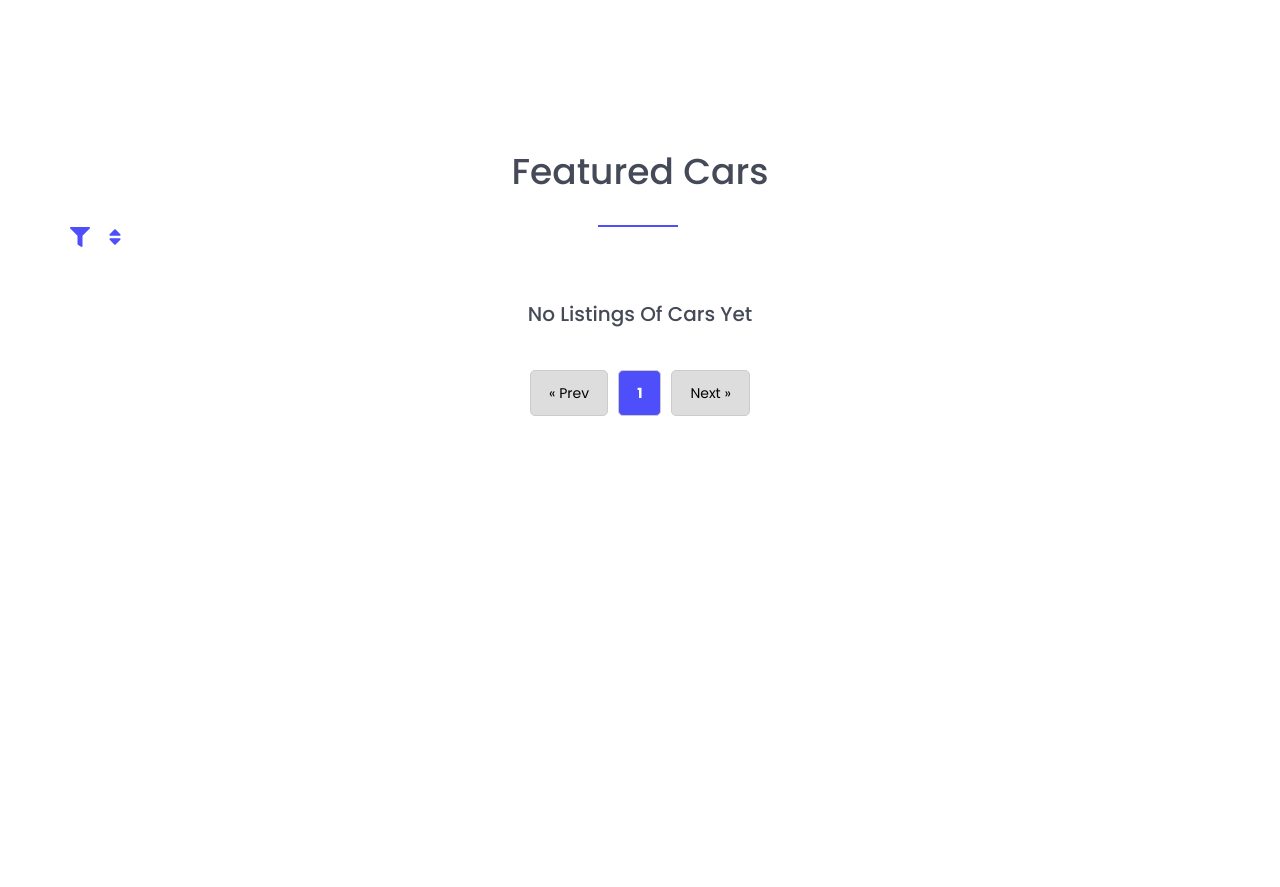
Test: Catalog Component › filters cars based on brand
The image size is (1280, 887).
Step 1. Click the icon with test id "filter" → (80, 237), box [70,227,90,247]
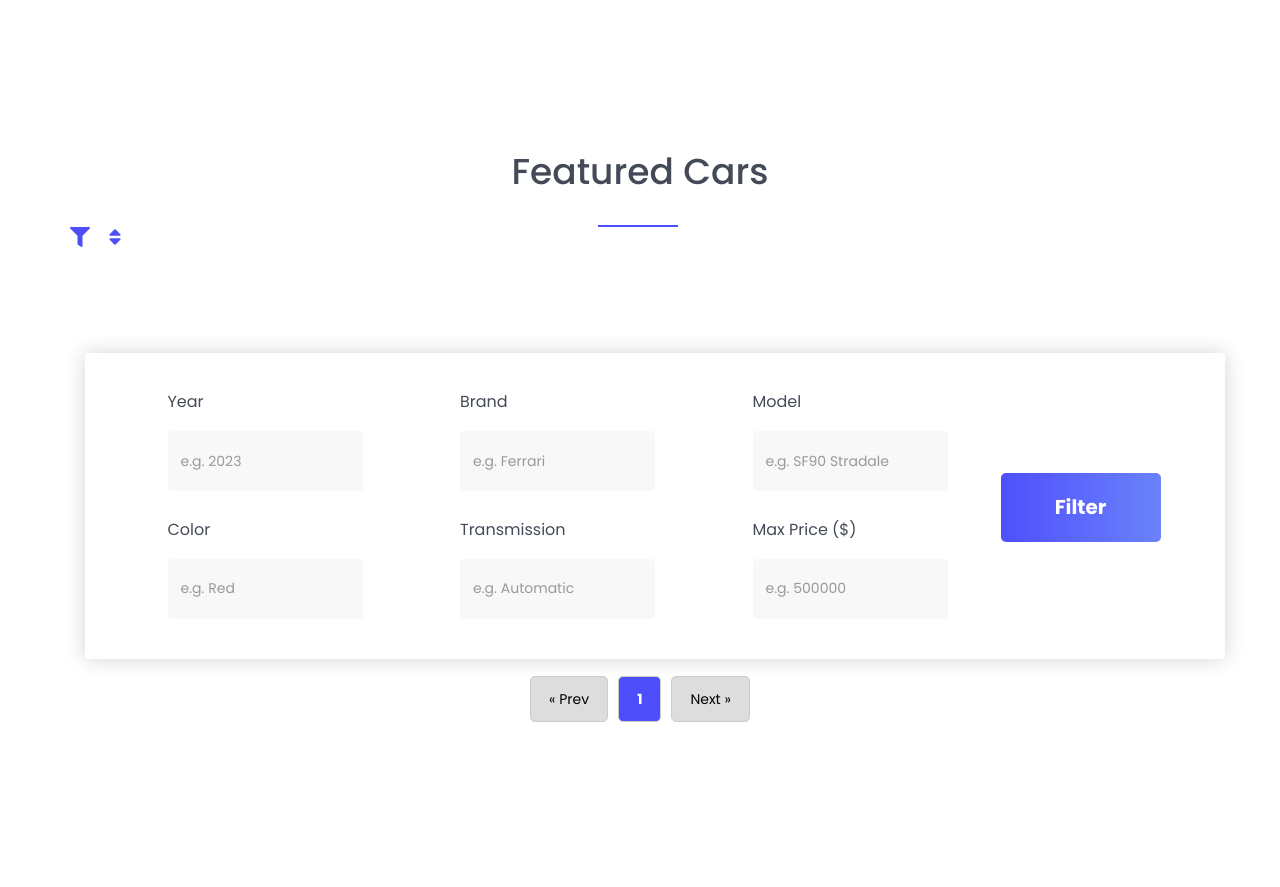
# Simulate setting brand to "Toyota"
Step 2. Type "Toyota" into the field with placeholder "e.g. Ferrari" → (558, 461), box [460,431,655,491]
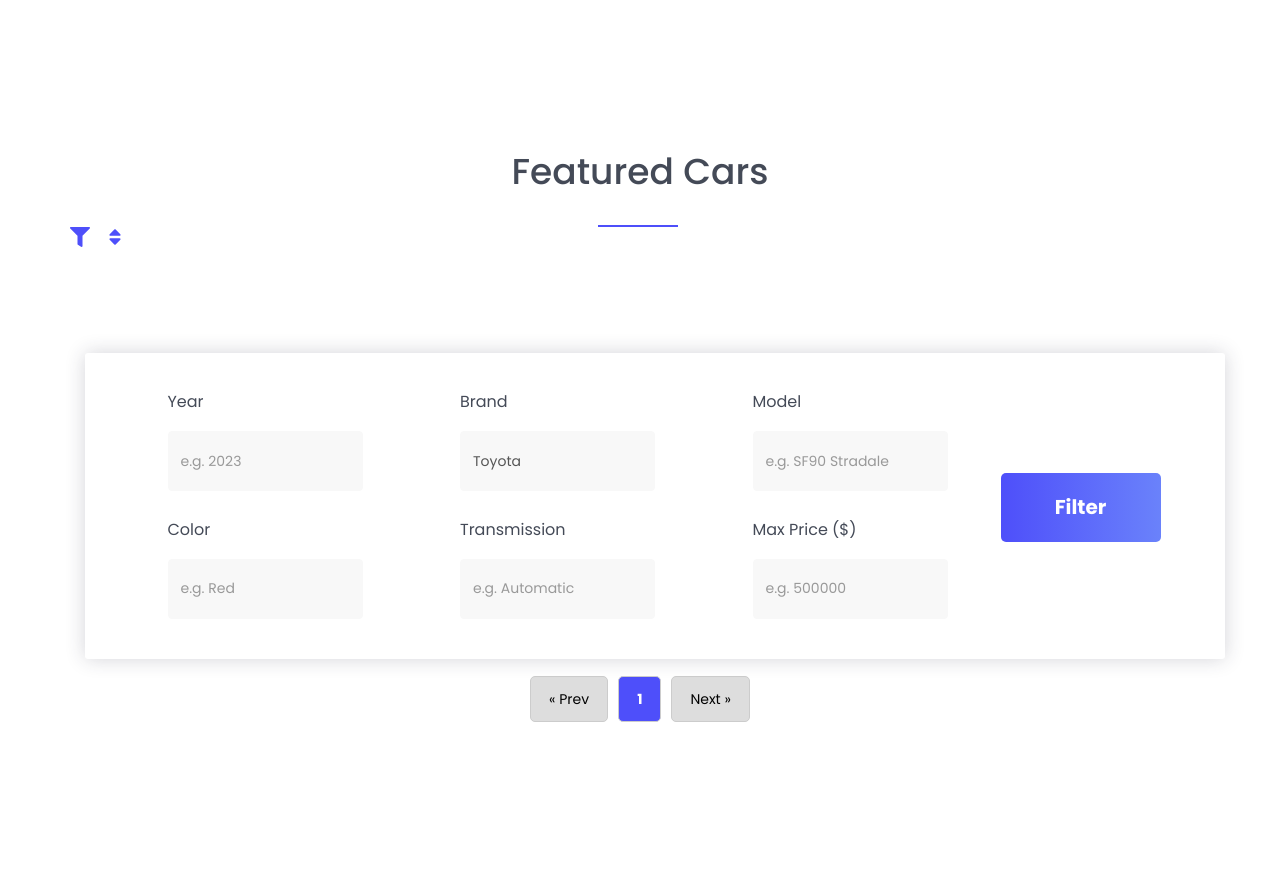
Step 3. Click the button "Filter" → (1080, 508), box [1000,473,1160,542]
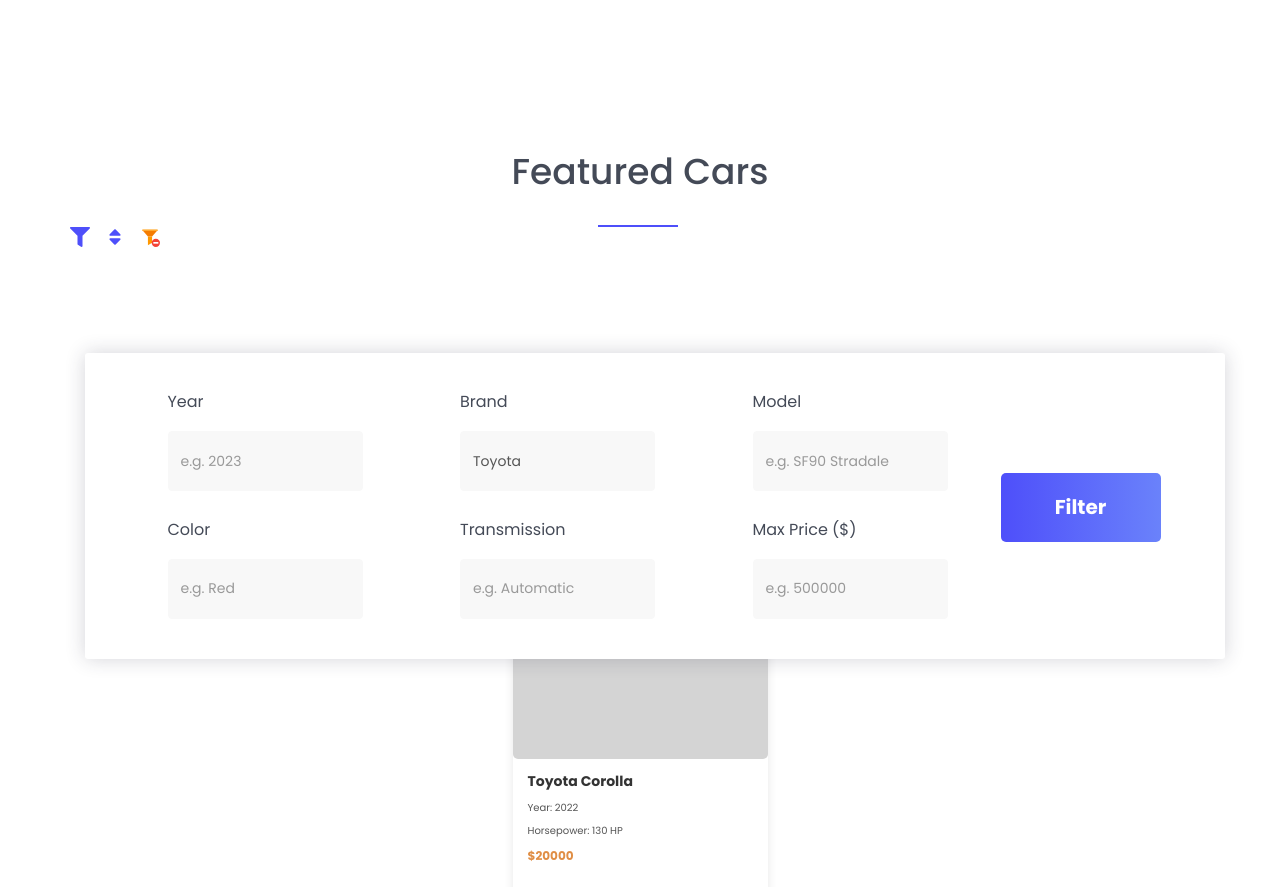
Result: the heading "Toyota Corolla" is shown at [528,771,633,791]
